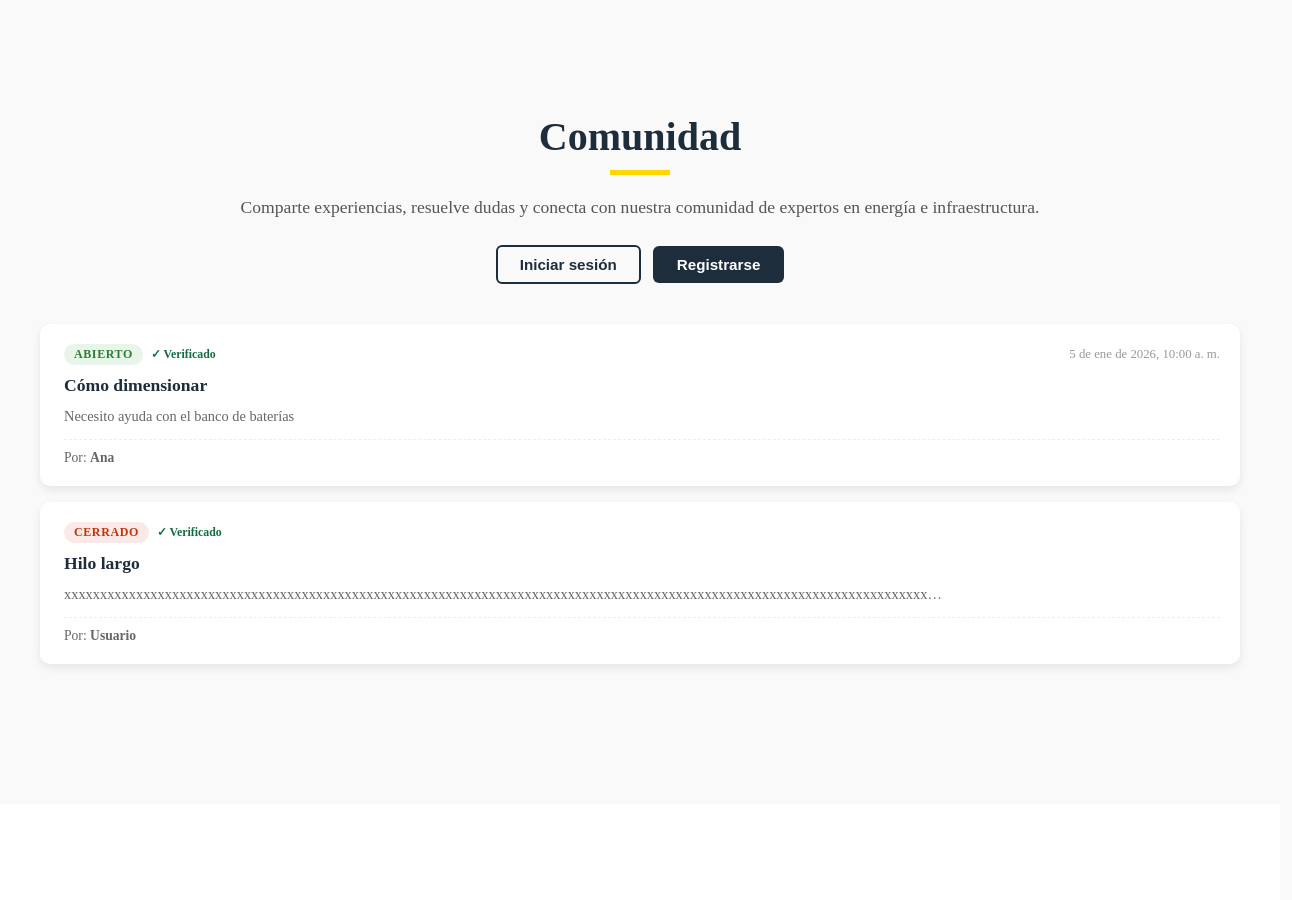
Foro › un hilo cerrado no permite responder
Click the heading "Hilo largo" at (102, 563), box [64,553,140,573]
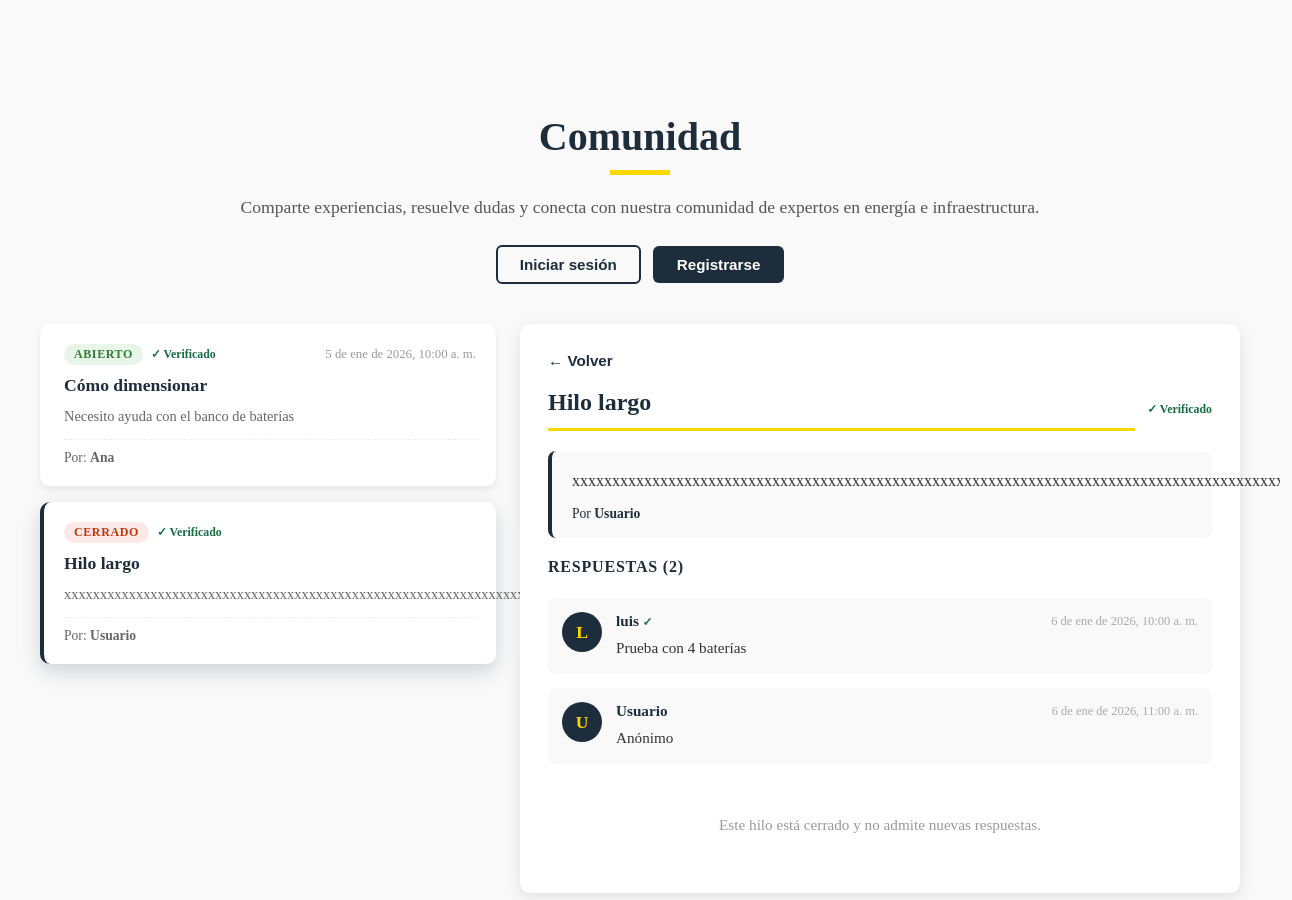
Expected: the text "Este hilo está cerrado y no admite nuevas respuestas." is shown, [719,816,1041,833]
